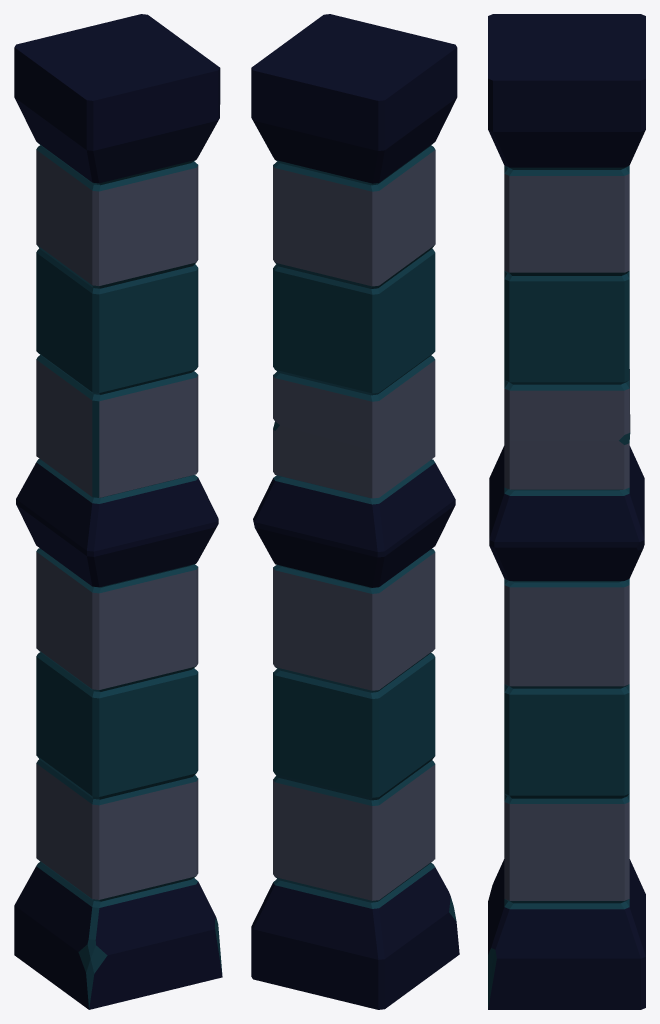
Rendered from Tembok 40 X 40.fbx.
The picture shows the model from 3 angles, left to right: view 1: azimuth 30°, elevation 25°; view 2: azimuth 150°, elevation 25°; view 3: azimuth 270°, elevation 25°; orthographic projection. The views are drawn at different scales.
Visible parts, largest first — view 1: Tiang 40x40 cm; view 2: Tiang 40x40 cm; view 3: Tiang 40x40 cm.
Part boxes in pixels (left/top/right/bottom): Tiang 40x40 cm: left=14, top=14, right=222, bottom=1009; Tiang 40x40 cm: left=251, top=14, right=459, bottom=1009; Tiang 40x40 cm: left=488, top=14, right=645, bottom=1009.
Bounding box in the file's own units: 80 × 520 × 80.
